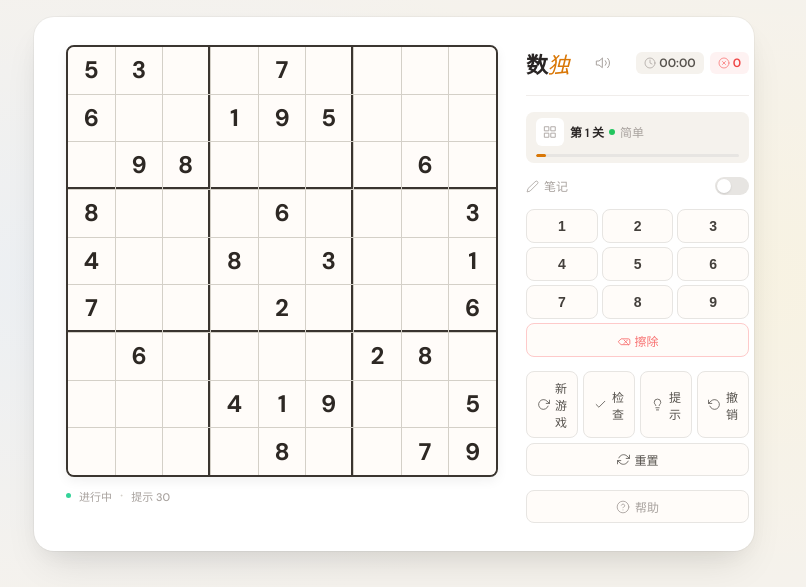
Scenario: App integration — keyboard input › entering wrong number increments mistake badge
This screenshot has width=806, height=587.
Click the 3rd element with class "cell": [187, 70] box [163,47,210,94]
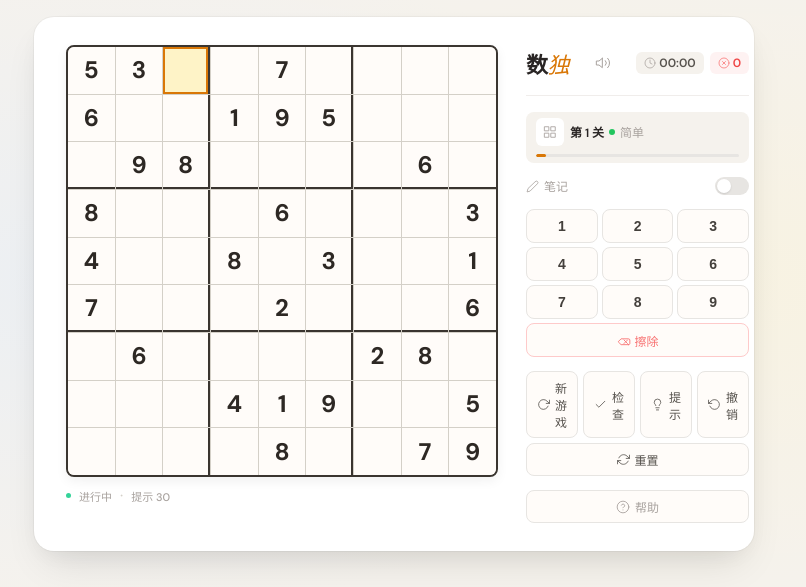
Type keys "9"
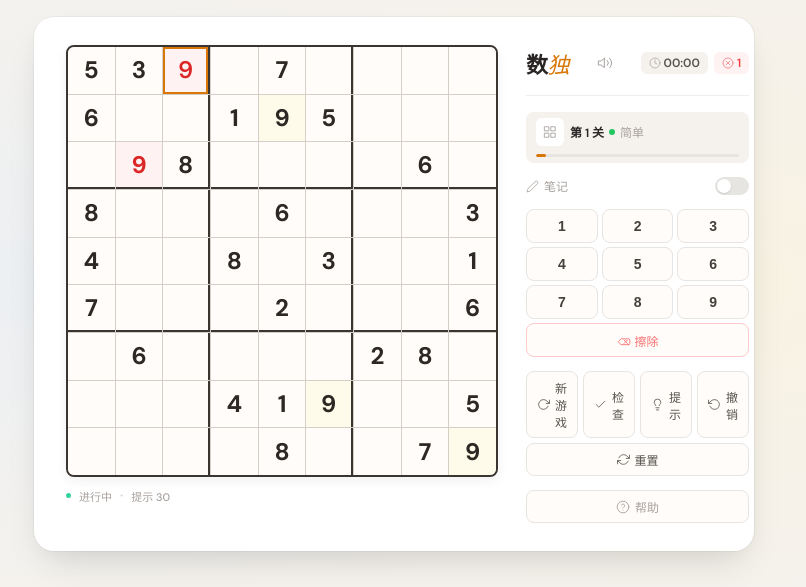
Check: the text with class "mistakes" reads "1", box [737,55,741,71]
